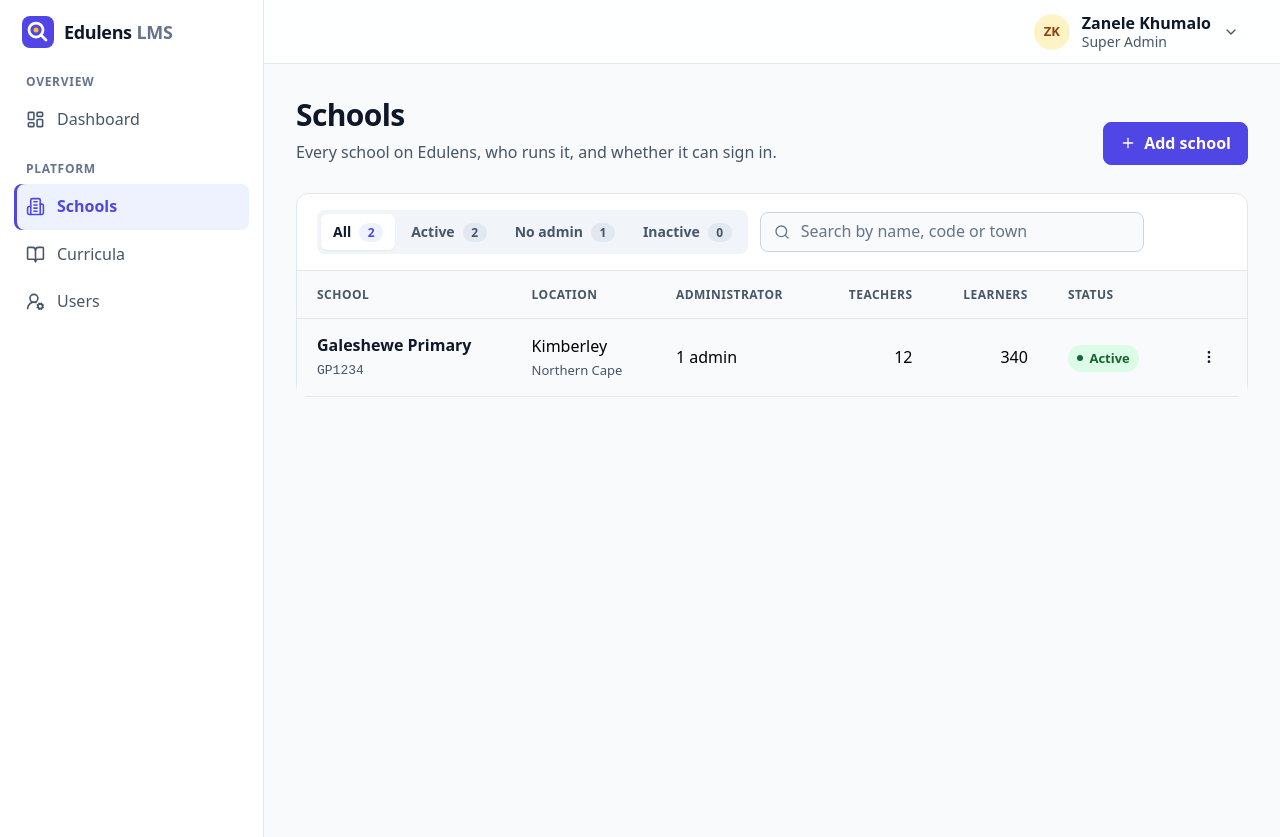
Schools list › adds a school and shows server validation next to the field
Click the button "Add school".
click(1176, 143)  # box [1103,122,1248,165]
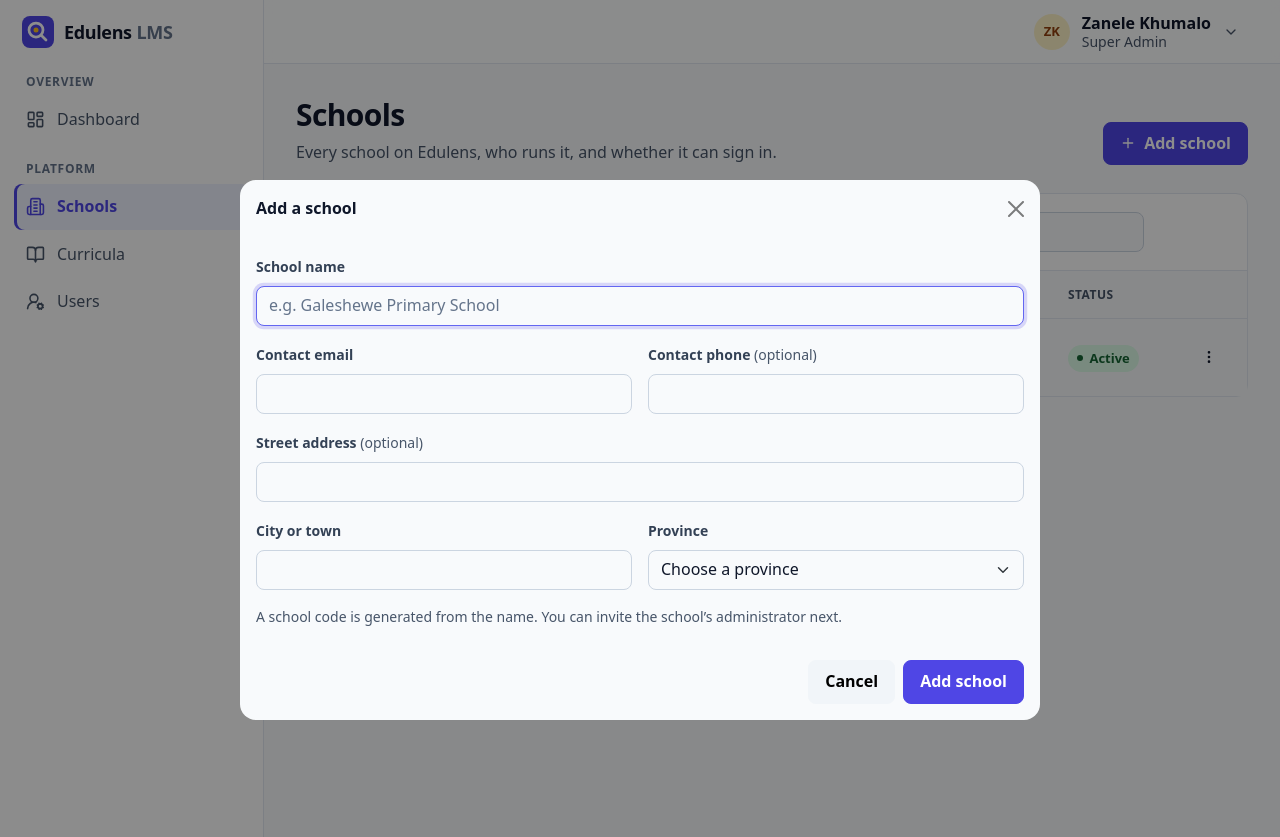
Type "Galeshewe Primary" into the field labelled "School name".
click(640, 306); type("Galeshewe Primary")  # box [256,286,1024,326]
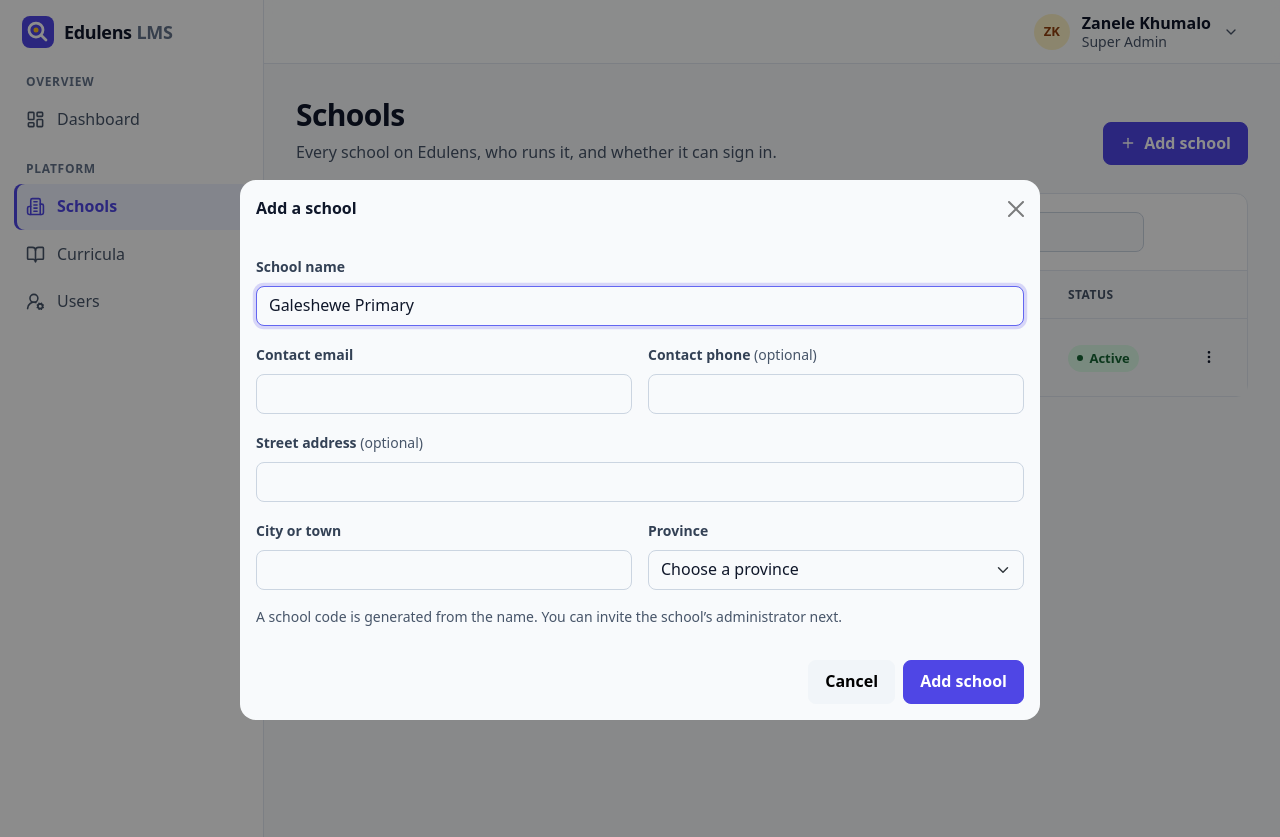
Type "bad" into the field labelled "Contact email".
click(444, 394); type("bad")  # box [256,374,632,414]
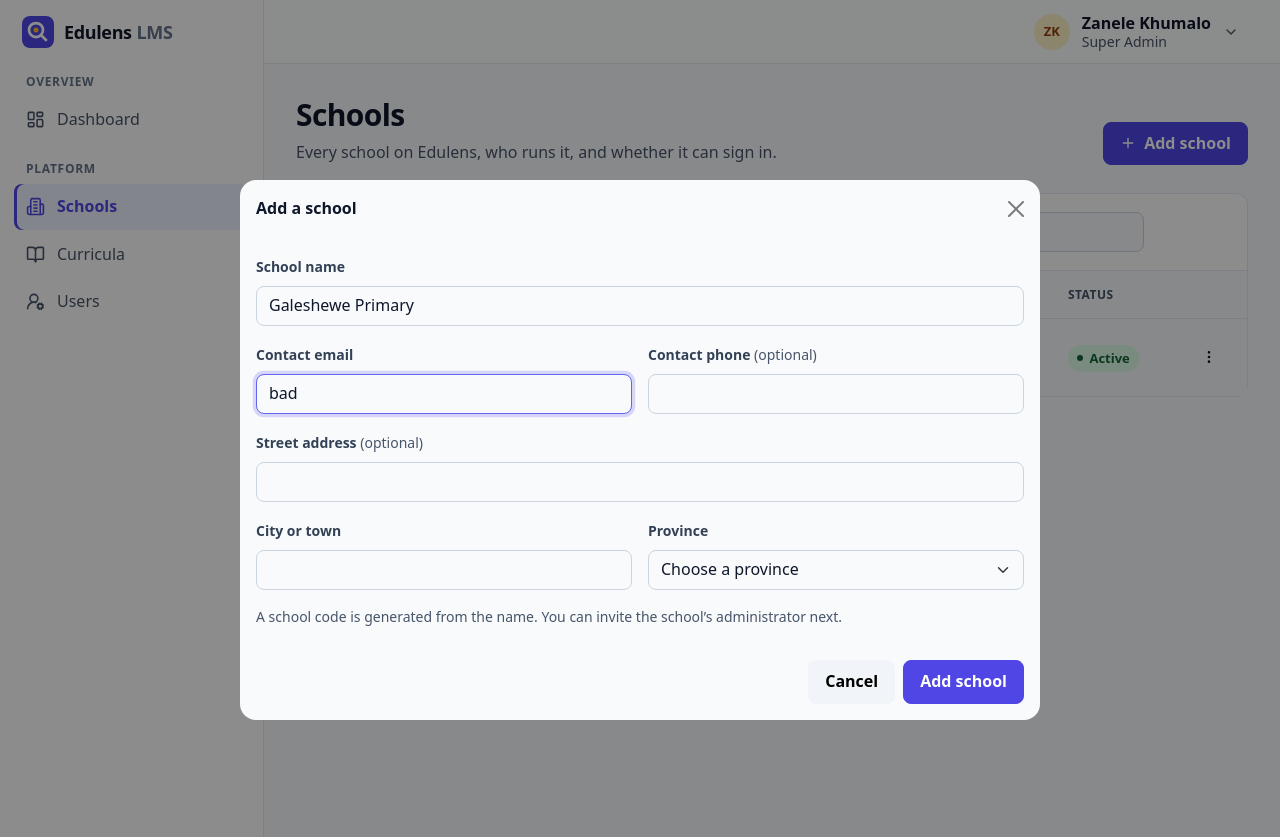
Click the button "Add school".
click(964, 682)  # box [903,660,1024,704]
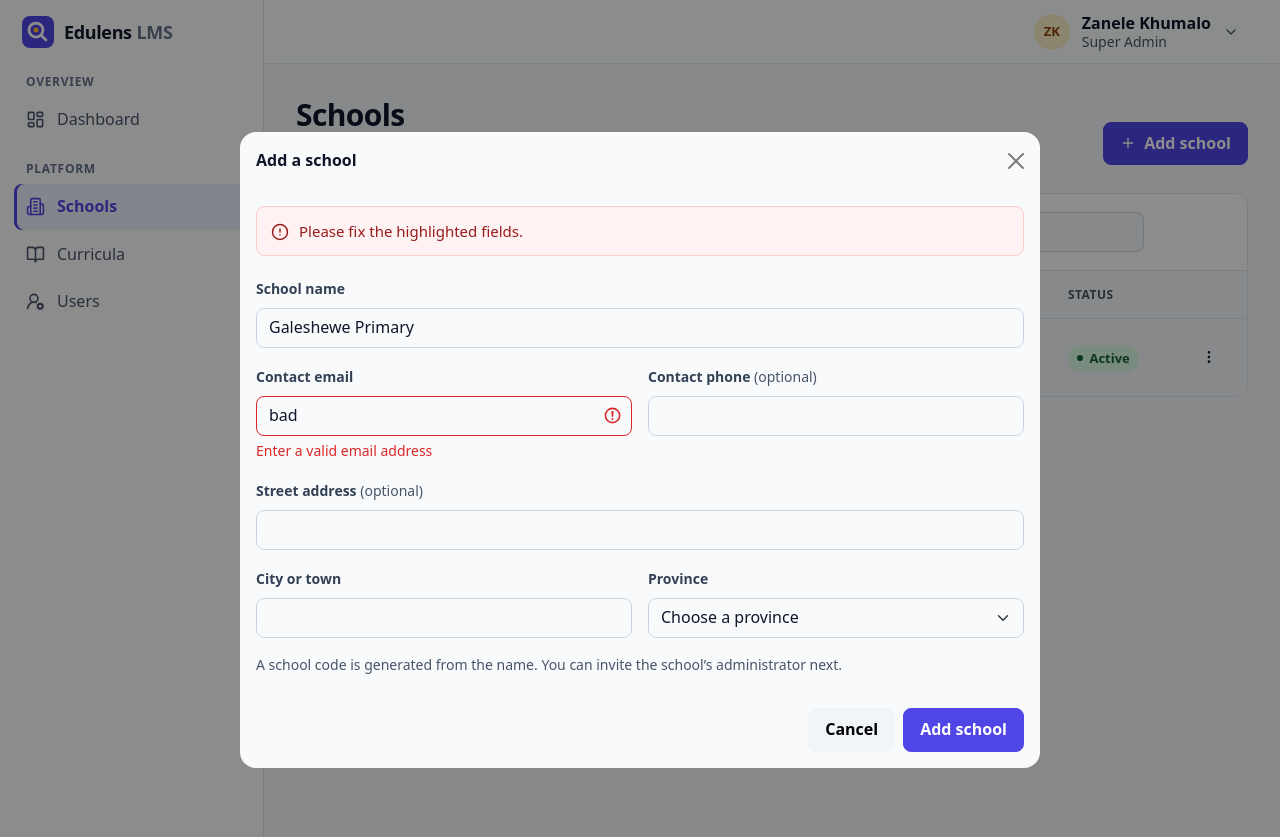
Check: the text "Enter a valid email address" is shown, box [256,441,432,460]
Replace the text in the field labelled "Contact email" with "office@galeshewe.co.za" at (444, 416), box [256,396,632,436]
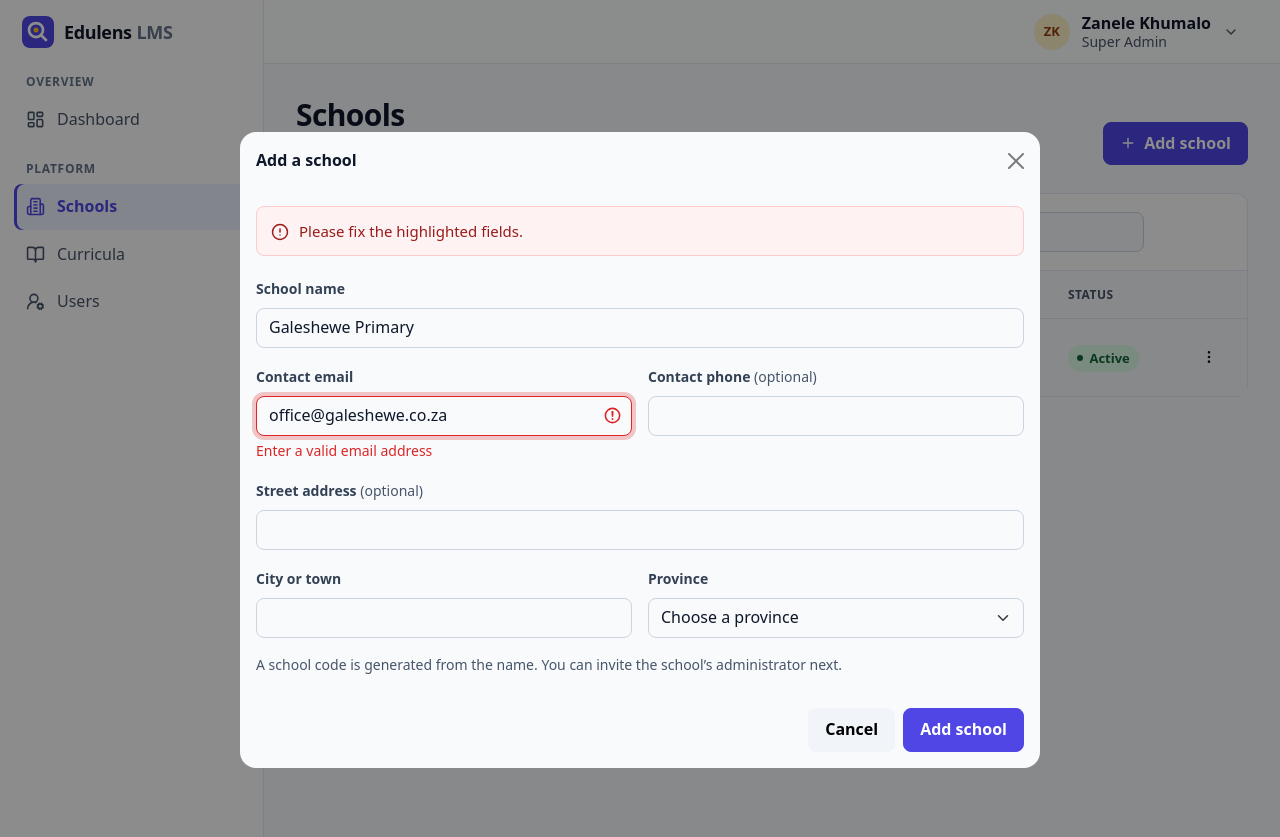
Click the button "Add school".
click(964, 730)  # box [903,708,1024,752]
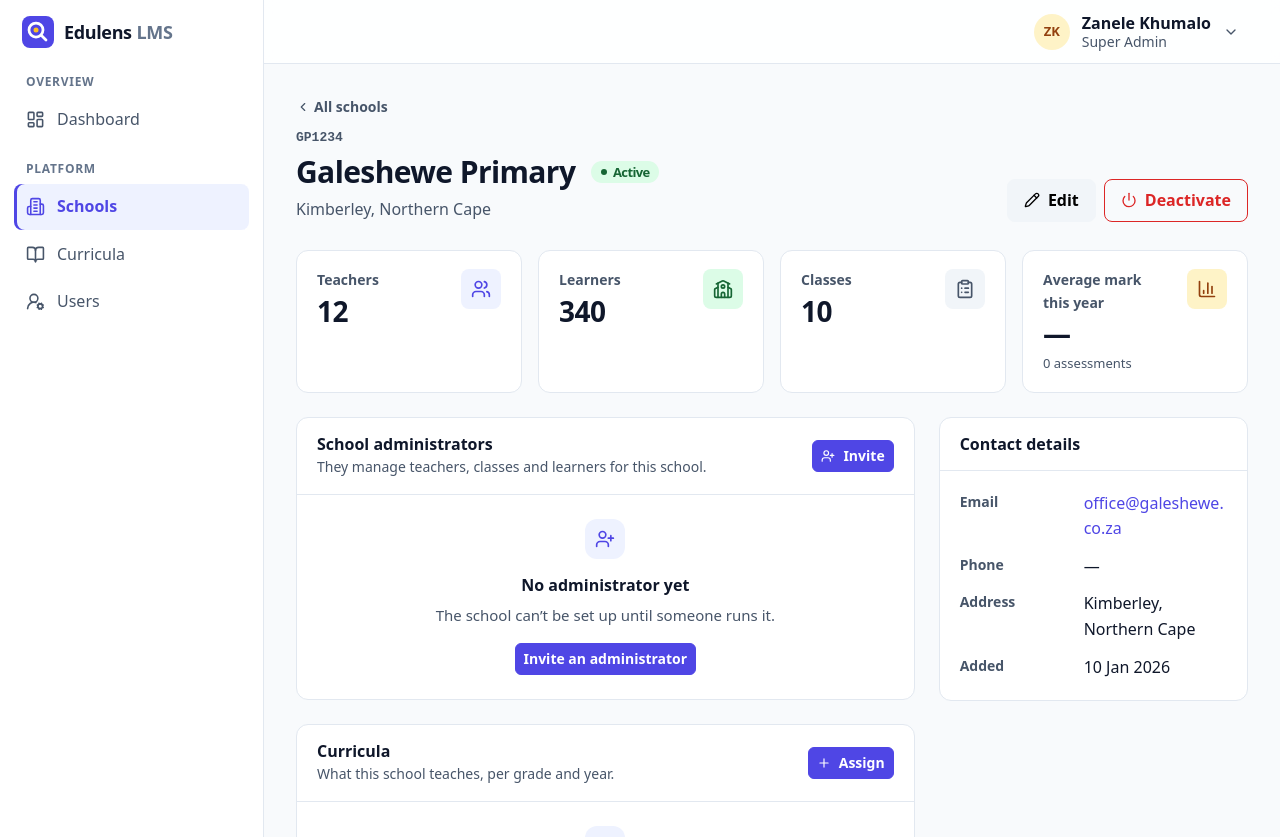
Check: the text "No administrator yet" is shown, box [521,573,689,599]
